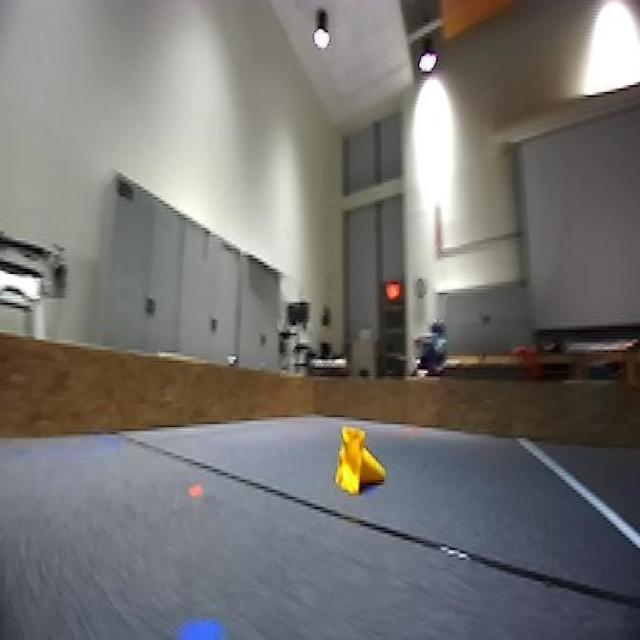frc_cone: (331, 429, 384, 500)
